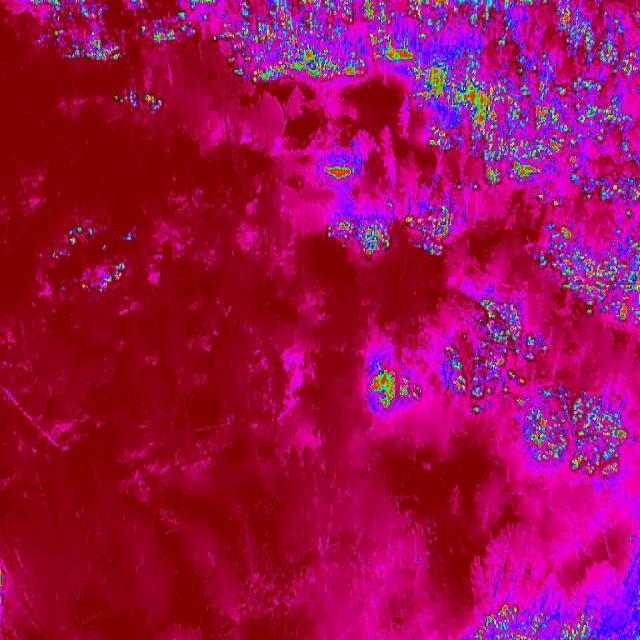fire: (29, 0, 640, 59), (409, 84, 640, 180), (531, 181, 640, 330), (436, 294, 556, 420), (230, 58, 640, 84), (513, 380, 623, 474), (468, 592, 640, 640), (46, 218, 134, 304), (320, 205, 393, 261), (366, 350, 421, 418), (404, 196, 454, 266), (316, 154, 376, 191), (115, 85, 163, 121)
